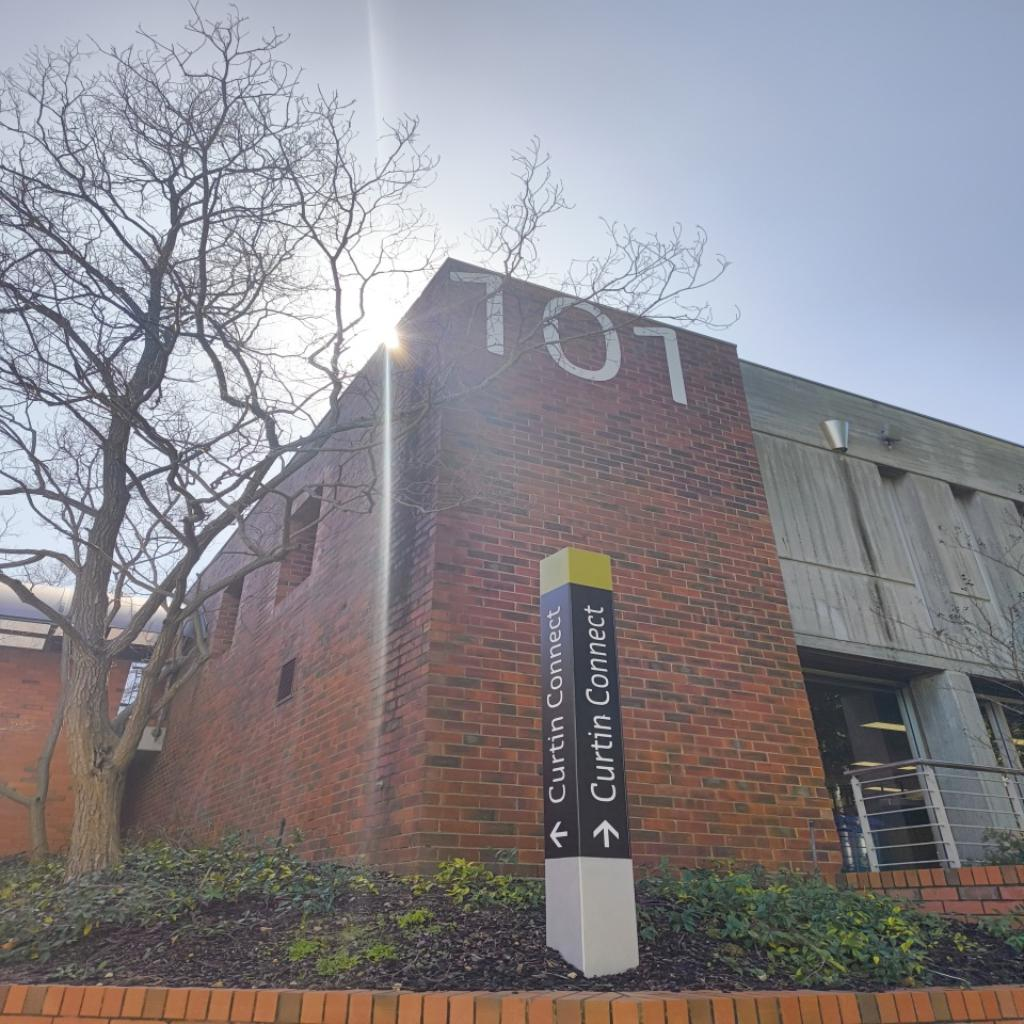BuildingCodes: (440, 266, 698, 412)
